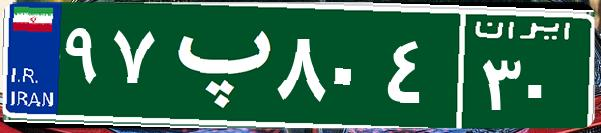0: (330, 28, 385, 110), (525, 38, 570, 115)
3: (475, 38, 525, 113)
4: (385, 28, 445, 110)
7: (110, 28, 158, 105)
8: (273, 28, 330, 110)
9: (57, 26, 110, 107)
پ: (158, 15, 273, 115)
